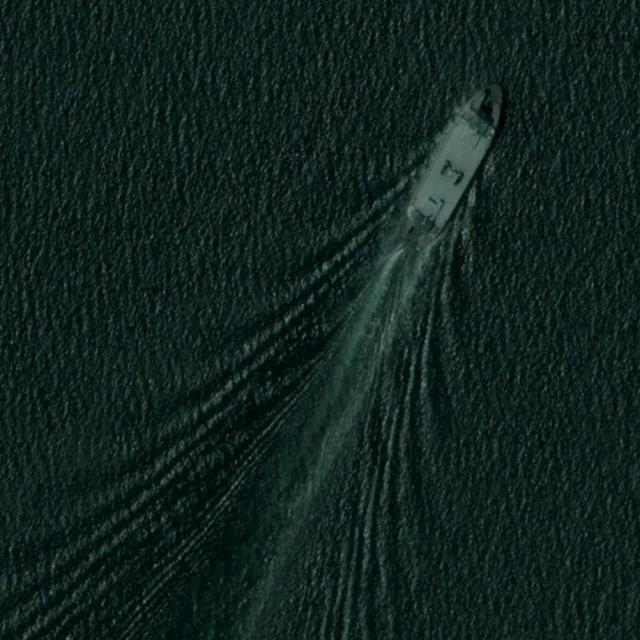RoRo: (392, 68, 516, 261)
